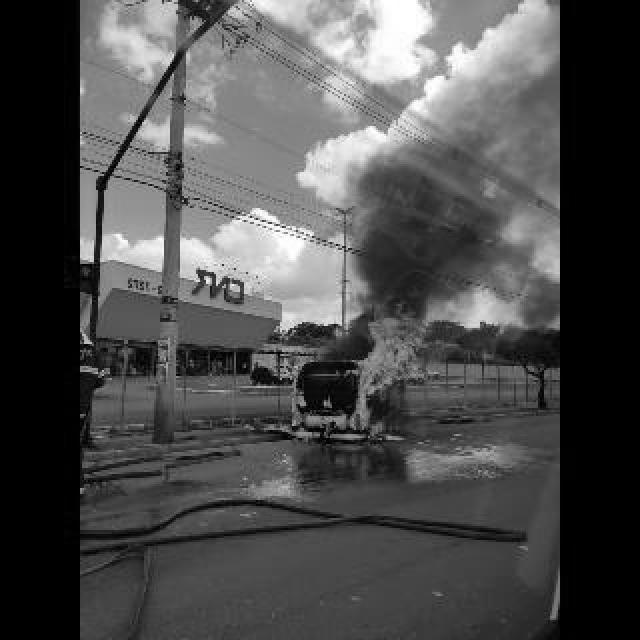Fire: (344, 302, 436, 402), (370, 416, 388, 436), (294, 360, 306, 376), (292, 412, 298, 424)
Smoke: (342, 60, 561, 308)
